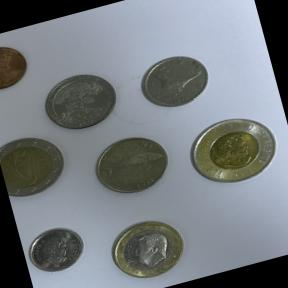coin: (173, 98, 288, 202), (81, 123, 180, 208), (98, 205, 199, 288), (36, 61, 126, 140), (0, 125, 73, 204), (19, 216, 93, 282), (0, 34, 37, 100)
